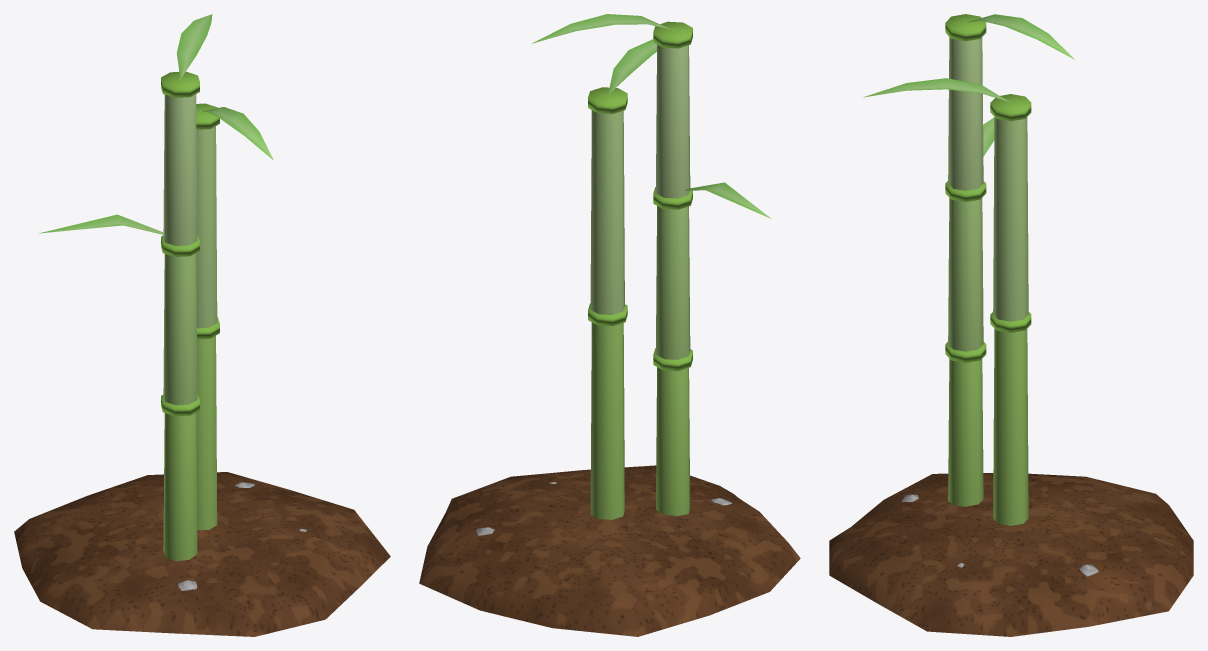
Rendered from plant-bamboo-1.glb.
3 views of the same model, side by side, from view 1: azimuth 30°, elevation 25°; view 2: azimuth 150°, elevation 25°; view 3: azimuth 270°, elevation 25° (orthographic).
Parts seen in each view (by area): view 1: plant-bamboo-1; view 2: plant-bamboo-1; view 3: plant-bamboo-1.
Boxes of the visible parts, bbox=[...] form: plant-bamboo-1: bbox=[14, 14, 390, 636]; plant-bamboo-1: bbox=[419, 14, 800, 636]; plant-bamboo-1: bbox=[829, 14, 1193, 636].
Bounding box in the file's own units: 0.8468 × 1.32 × 0.8189.
Materials: 4 (2 with a texture image).
